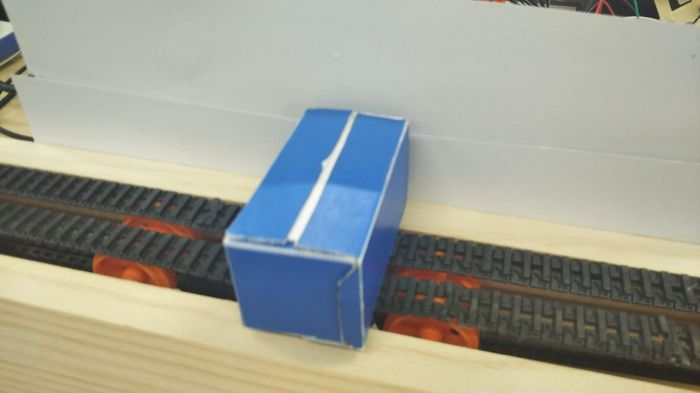box3: (219, 100, 412, 349)
